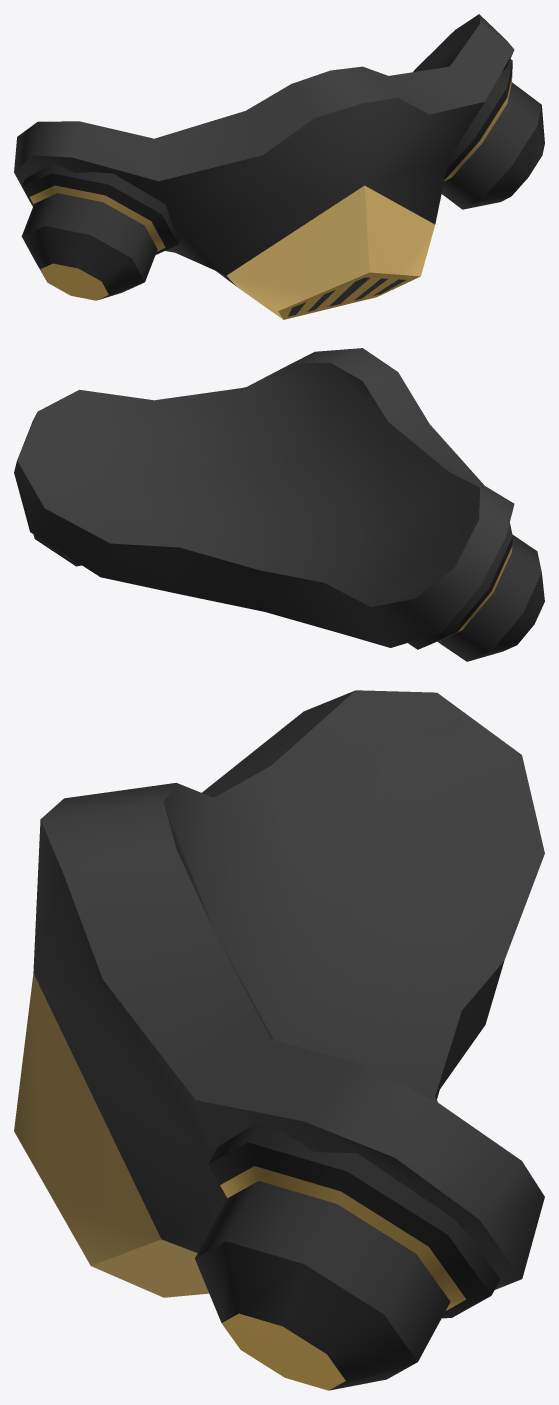
File: Mask_5.fbx
The picture shows the model from 3 angles, top to bottom: view 1: azimuth 30°, elevation 25°; view 2: azimuth 150°, elevation 25°; view 3: azimuth 270°, elevation 25°; orthographic projection. The views are drawn at different scales.
Visible parts, largest first — view 1: Mask_5; view 2: Mask_5; view 3: Mask_5.
Boxes of the visible parts, x1=… form: Mask_5: x1=14, y1=14, x2=544, y2=319; Mask_5: x1=14, y1=348, x2=544, y2=661; Mask_5: x1=14, y1=690, x2=544, y2=1390.
Bounding box in the file's own units: 49.56 × 22.49 × 23.92.
